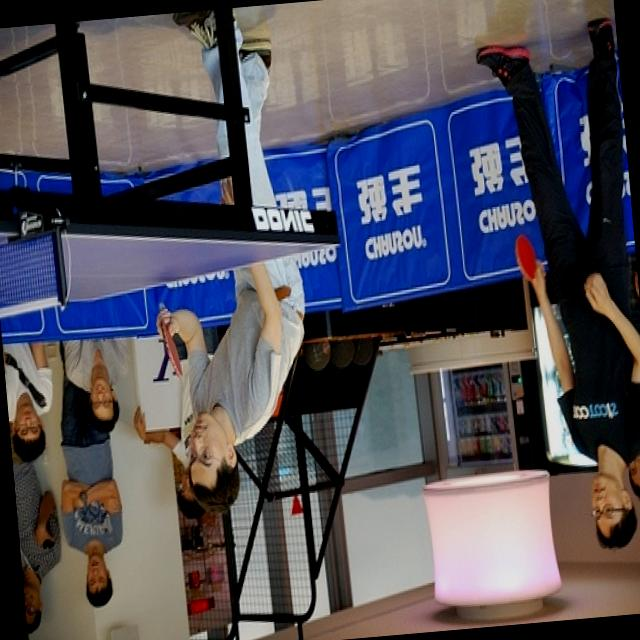TT Net: (0, 213, 67, 321)
TT Racket: (144, 304, 200, 380), (501, 220, 550, 289)
TT Table: (0, 230, 337, 303)
